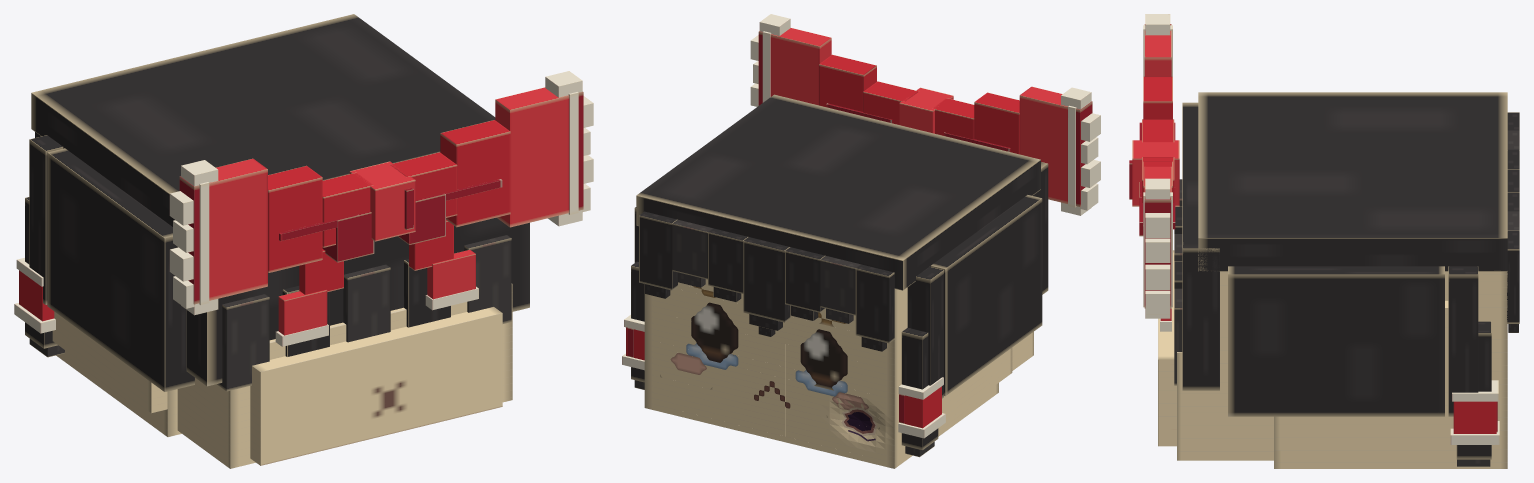
File: tear_reimu_1.obj
3 views of the same model, side by side, from view 1: azimuth 30°, elevation 25°; view 2: azimuth 150°, elevation 25°; view 3: azimuth 270°, elevation 25° (orthographic). The views are drawn at different scales.
Parts seen in each view (by area): view 1: tear_reimu_1; view 2: tear_reimu_1; view 3: tear_reimu_1.
Boxes of the visible parts, left/top/right/bottom form: tear_reimu_1: left=14, top=14, right=593, bottom=468; tear_reimu_1: left=622, top=14, right=1100, bottom=468; tear_reimu_1: left=1129, top=14, right=1519, bottom=468.
Bounding box in the file's own units: 16.28 × 12.24 × 14.49.
1 material, 1 textured.
